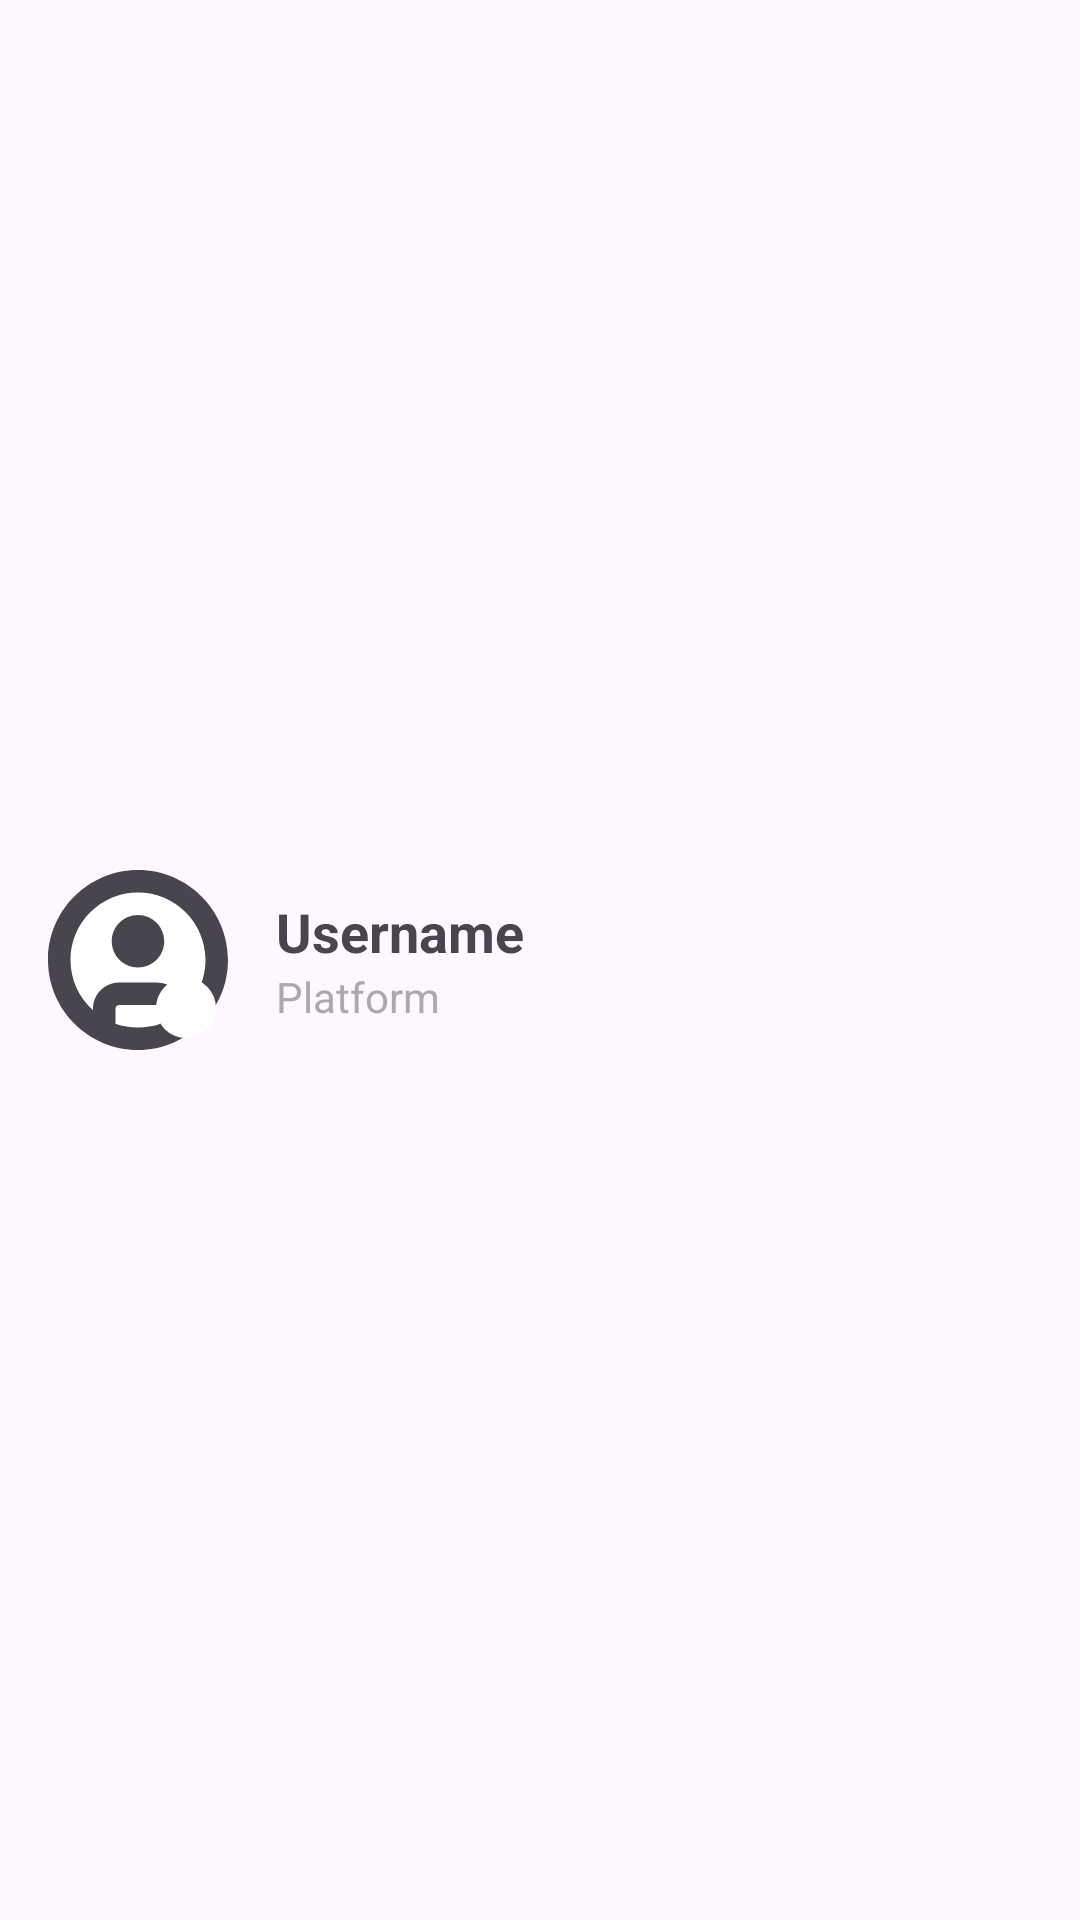

Icon click points for this 1080w x 1920h phone screenshot, format point (x, y):
circle user: point (138, 960)
